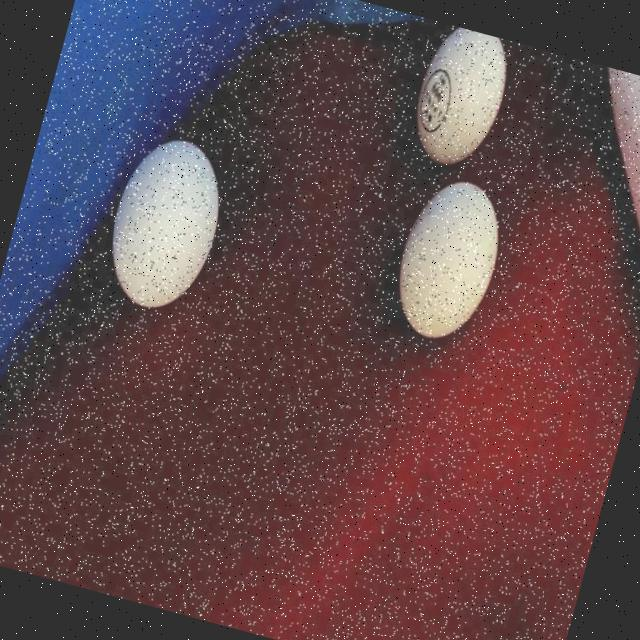ping-pong-ball: (92, 120, 243, 324), (382, 167, 516, 353), (399, 20, 522, 177)
